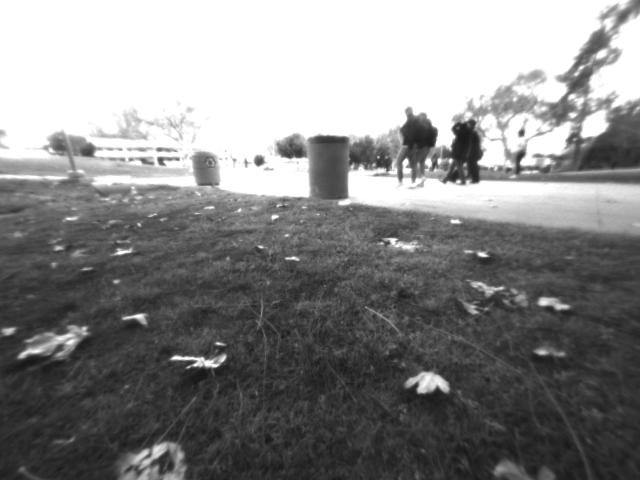trashcan: (306, 131, 349, 203), (193, 151, 220, 186)
